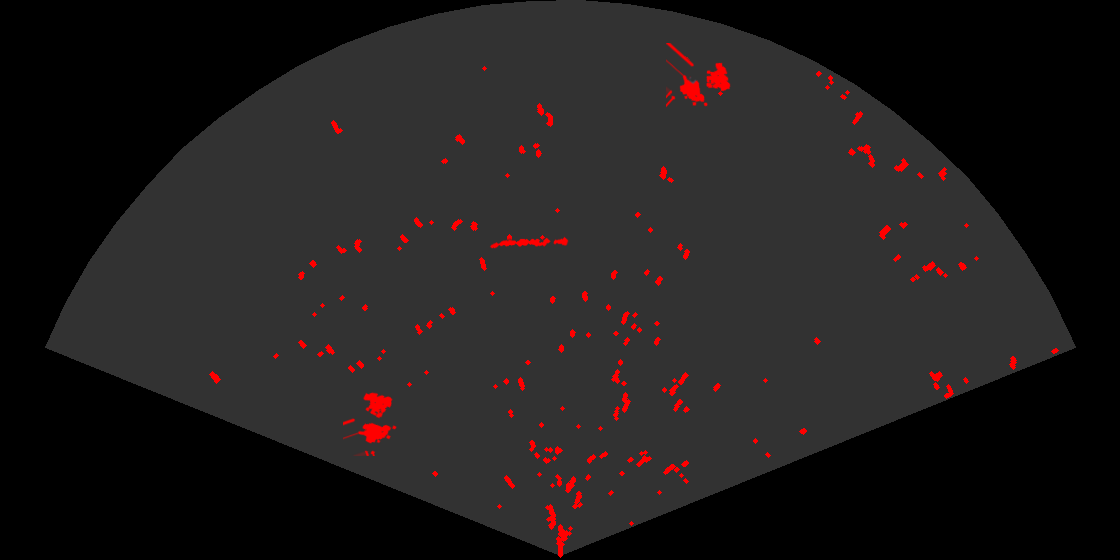cage: (666, 43, 732, 109), (343, 391, 398, 456)
chain: (489, 235, 569, 250)
